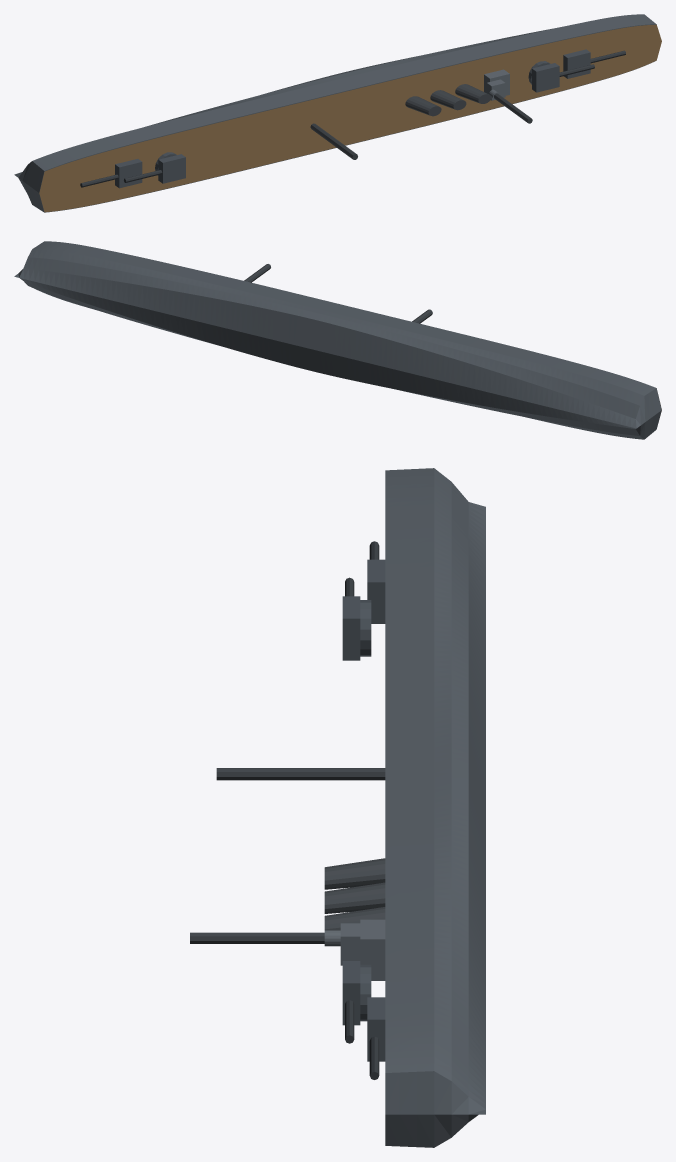
Rendered from 球磨型.obj.
3 renders of one model, top to bottom at view 1: azimuth 30°, elevation 25°; view 2: azimuth 150°, elevation 25°; view 3: azimuth 270°, elevation 25°, orthographic. The views are drawn at different scales.
Size of the model in its own units: 159 by 14.16 by 32.65.
